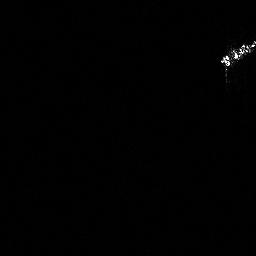ship: (216, 35, 256, 73)
